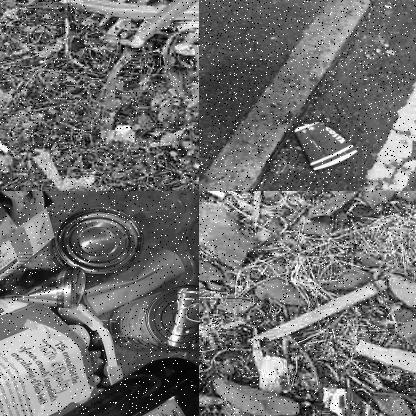glass: (0, 356, 198, 415)
metal: (110, 286, 198, 351), (60, 207, 144, 273), (3, 264, 82, 306)
plastic: (0, 302, 118, 415), (295, 120, 362, 175), (30, 145, 98, 190)
